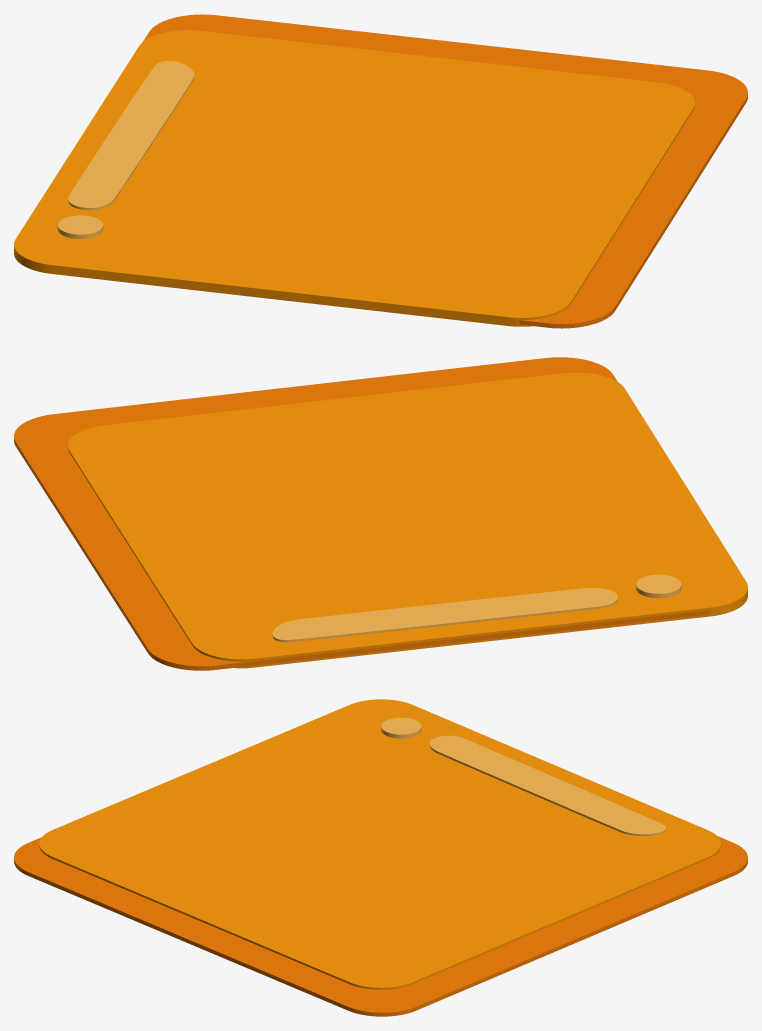
Rendered from emoji_u1f536.glb.
3 renders of one model, top to bottom at view 1: azimuth 30°, elevation 25°; view 2: azimuth 150°, elevation 25°; view 3: azimuth 270°, elevation 25°, orthographic. The views are drawn at different scales.
Parts seen in each view (by area): view 1: emoji_u1f536; view 2: emoji_u1f536; view 3: emoji_u1f536.
Boxes of the visible parts, x1,y1,x2,y2 form: emoji_u1f536: [14, 14, 747, 328]; emoji_u1f536: [14, 357, 747, 670]; emoji_u1f536: [14, 699, 747, 1016].
Size of the model in its own units: 0.034 by 0.0008 by 0.0339.
